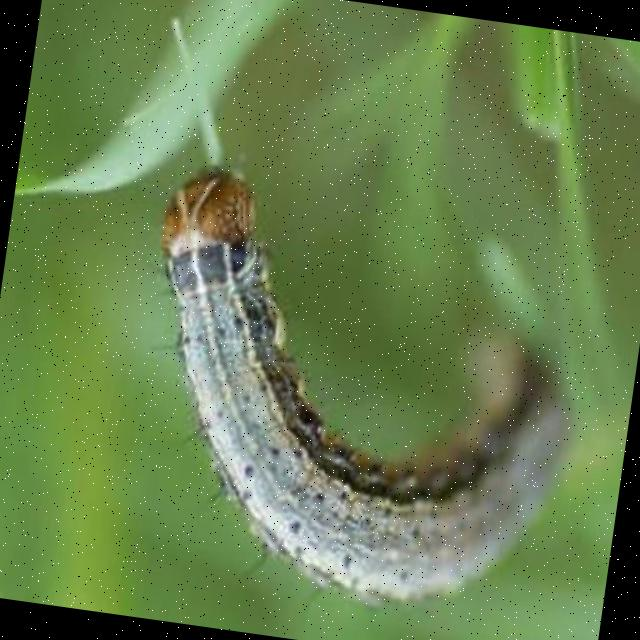worm: (111, 155, 603, 633)
